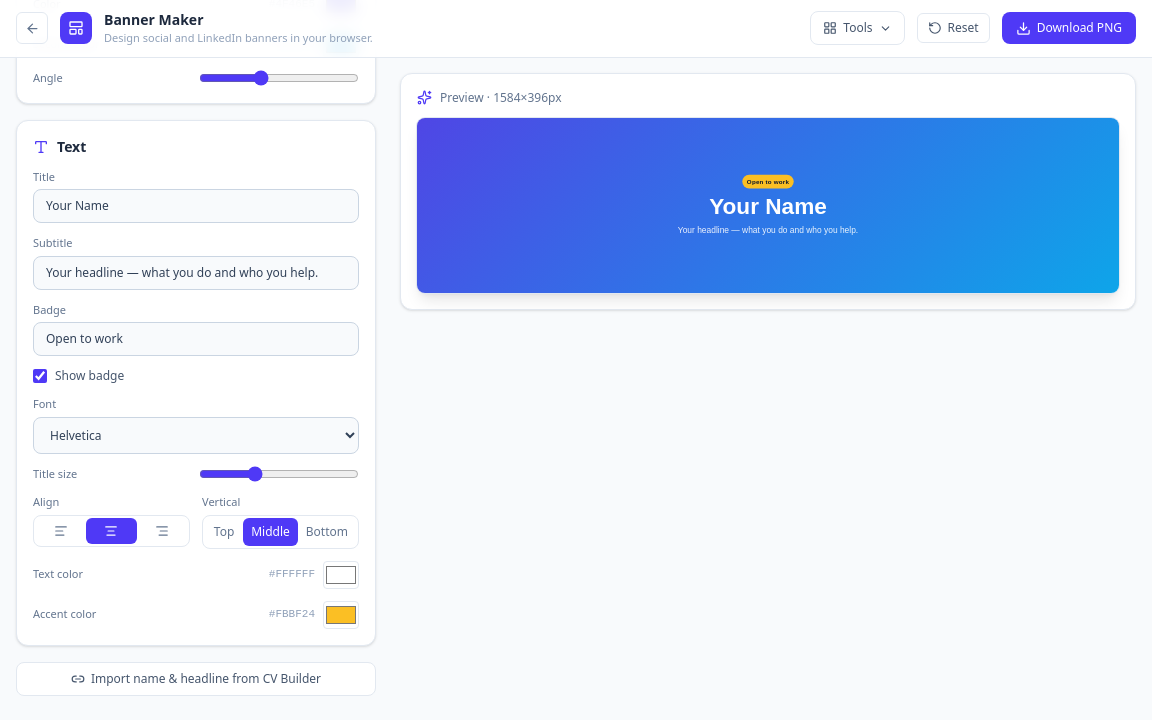
Scenario: BannerApp › imports the name and headline from the CV Builder
(page scrolled)
Click the button "Import name & headline from CV Builder" at (196, 678), box x1=16 y1=662 x2=376 y2=696
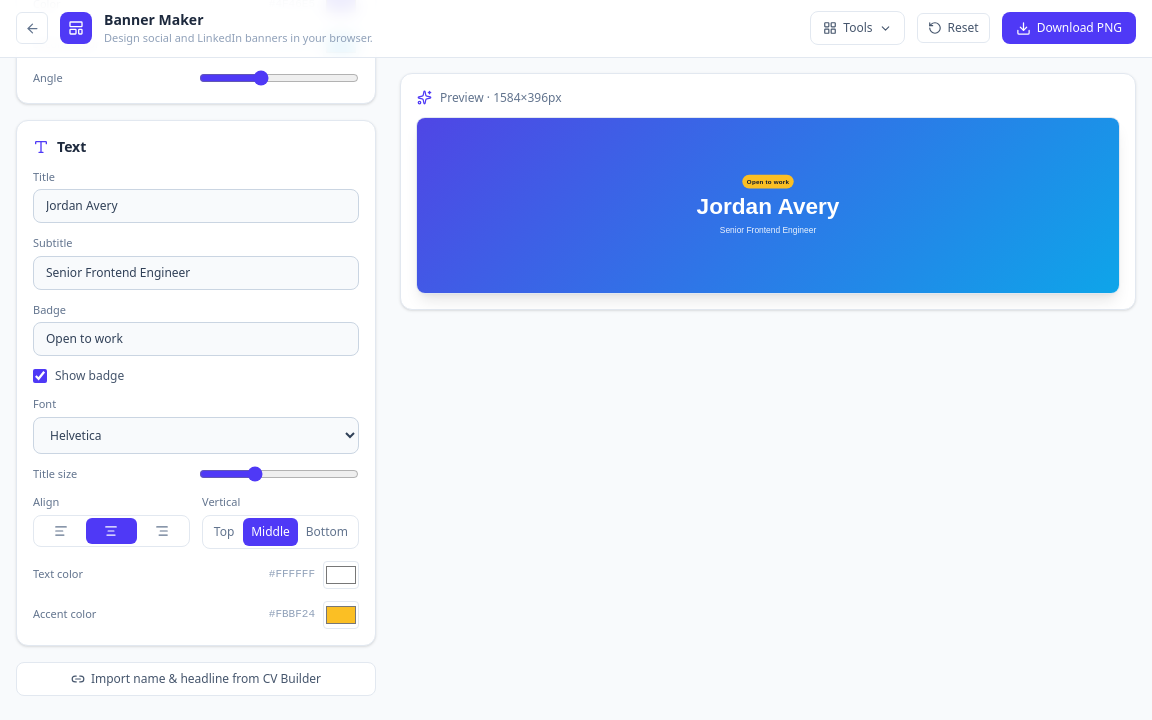
Expected: the field showing "Jordan Avery" is shown, x1=33 y1=189 x2=359 y2=223
Expected: the field showing "Senior Frontend Engineer" is shown, x1=33 y1=256 x2=359 y2=290
